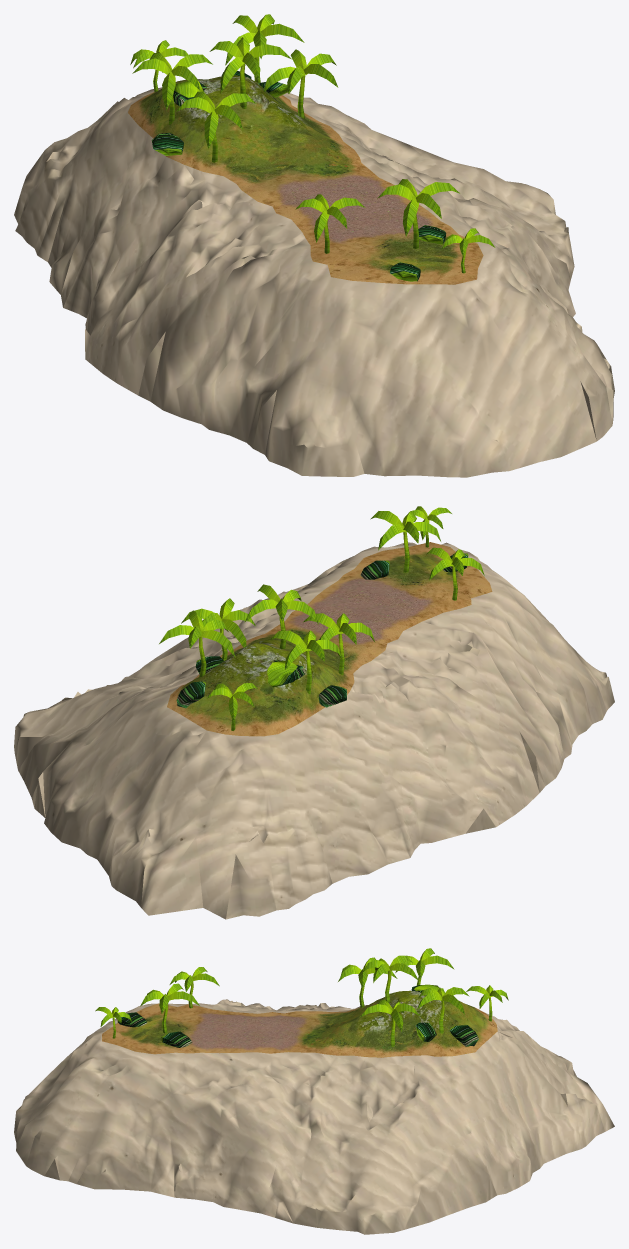
File: island-t06.glb
3 views of the same model, one above another, from view 1: azimuth 30°, elevation 25°; view 2: azimuth 150°, elevation 25°; view 3: azimuth 270°, elevation 25° (orthographic). The views are drawn at different scales.
Visible parts, largest first — view 1: island; view 2: island; view 3: island.
Part boxes in pixels (bbox=[...]): island: bbox=[14, 14, 614, 477]; island: bbox=[14, 506, 614, 919]; island: bbox=[14, 948, 614, 1234].
Bounding box in the file's own units: 49.95 × 22.96 × 72.61.
3 materials, 3 textured.
